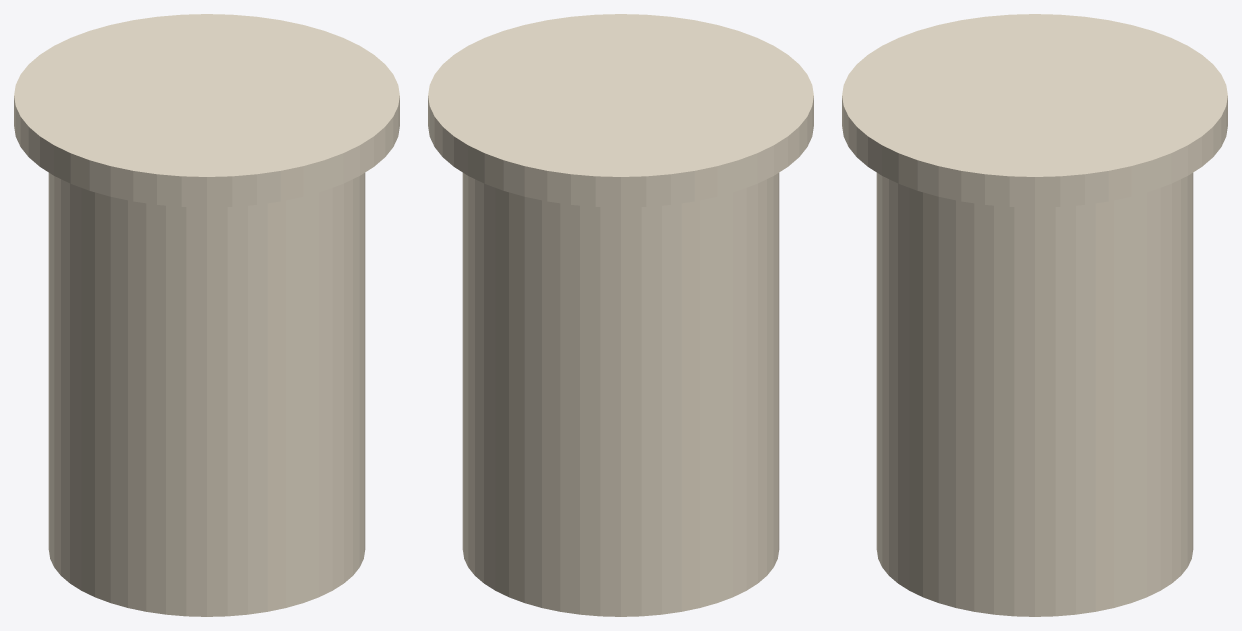
The model's file is cove-side-table-pine.glb.
3 views of the same model, side by side, from view 1: azimuth 30°, elevation 25°; view 2: azimuth 150°, elevation 25°; view 3: azimuth 270°, elevation 25° (orthographic).
Visible parts, largest first — view 1: geometry_0; view 2: geometry_0; view 3: geometry_0.
Boxes of the visible parts, left/top/right/bottom form: geometry_0: left=14, top=14, right=399, bottom=616; geometry_0: left=428, top=14, right=813, bottom=616; geometry_0: left=842, top=14, right=1227, bottom=616.
Bounding box in the file's own units: 0.4 × 0.52 × 0.4.
